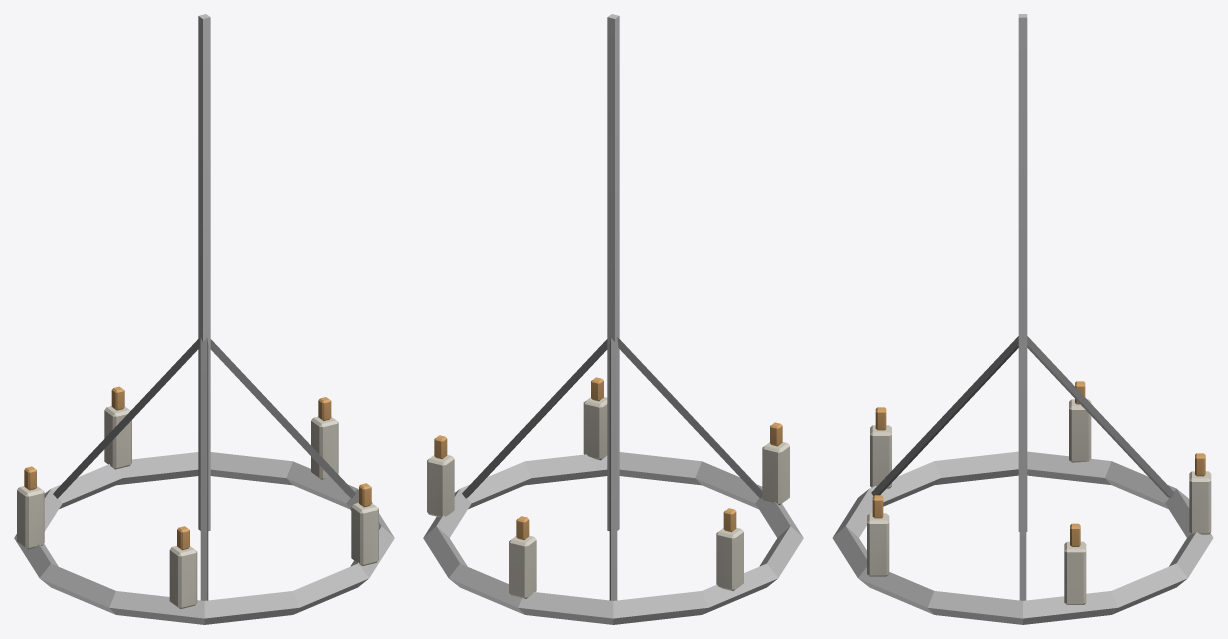
The model's file is chandelier_small.glb.
3 views of the same model, side by side, from view 1: azimuth 30°, elevation 25°; view 2: azimuth 150°, elevation 25°; view 3: azimuth 270°, elevation 25° (orthographic).
Parts seen in each view (by area): view 1: candle; view 2: candle; view 3: candle.
Part boxes in pixels (x1,y1,x2,y2): candle: [14, 14, 394, 624]; candle: [423, 14, 803, 624]; candle: [832, 14, 1213, 624].
Bounding box in the file's own units: 0.86 × 1.33 × 0.86.
